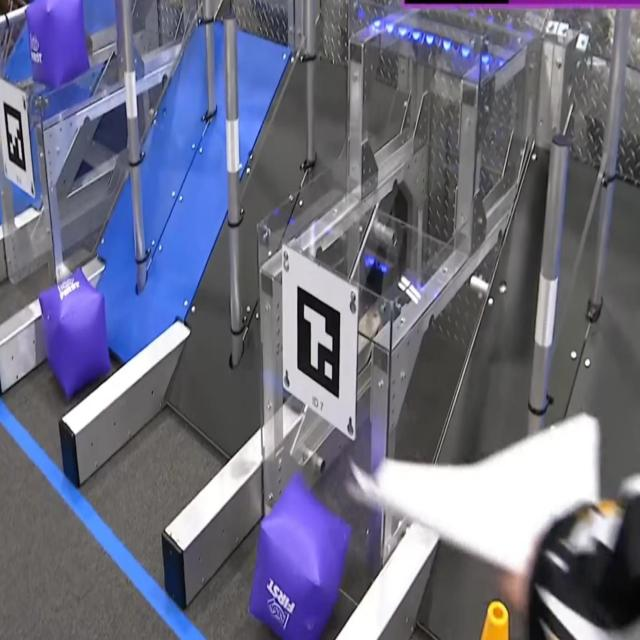frc_cone: (479, 589, 512, 640)
frc_cube: (248, 479, 351, 640), (39, 268, 111, 401), (25, 0, 89, 83)
